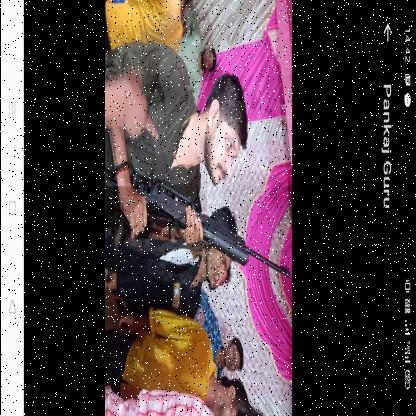rifle: (124, 172, 290, 280)
